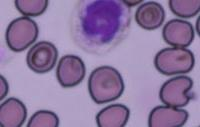N: (71, 0, 132, 52)
